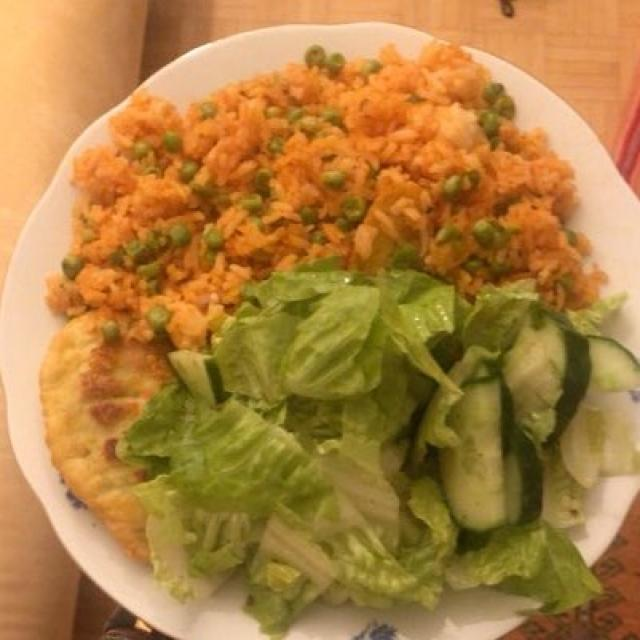cucumber: (441, 313, 617, 531)
rice: (49, 50, 595, 363)
salad: (157, 274, 608, 606)
